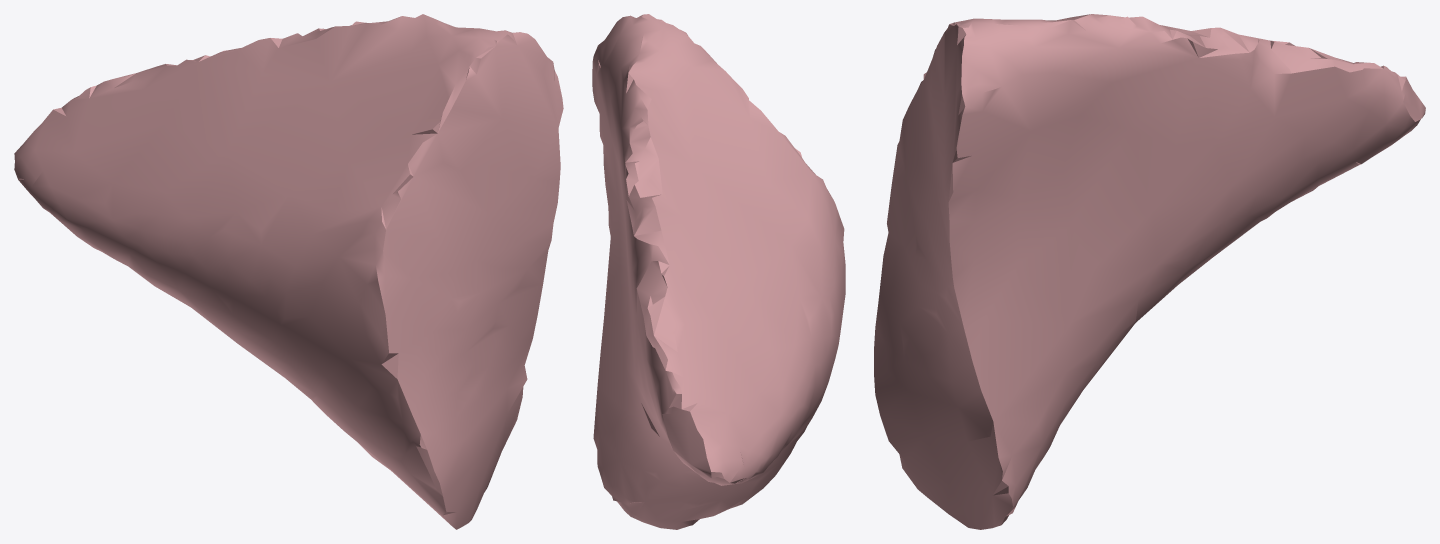
The model's file is fma75766-r_mm1020m.glb.
The picture shows the model from 3 angles, left to right: view 1: azimuth 30°, elevation 25°; view 2: azimuth 150°, elevation 25°; view 3: azimuth 270°, elevation 25°; orthographic projection. The views are drawn at different scales.
Parts seen in each view (by area): view 1: FMA75766-R_MM1020M; view 2: FMA75766-R_MM1020M; view 3: FMA75766-R_MM1020M.
Boxes of the visible parts, x1,y1,x2,y2 form: FMA75766-R_MM1020M: [14, 14, 563, 529]; FMA75766-R_MM1020M: [592, 14, 845, 529]; FMA75766-R_MM1020M: [874, 14, 1425, 529].
Size of the model in its own units: 0.00106 by 0.00144 by 0.00139.
